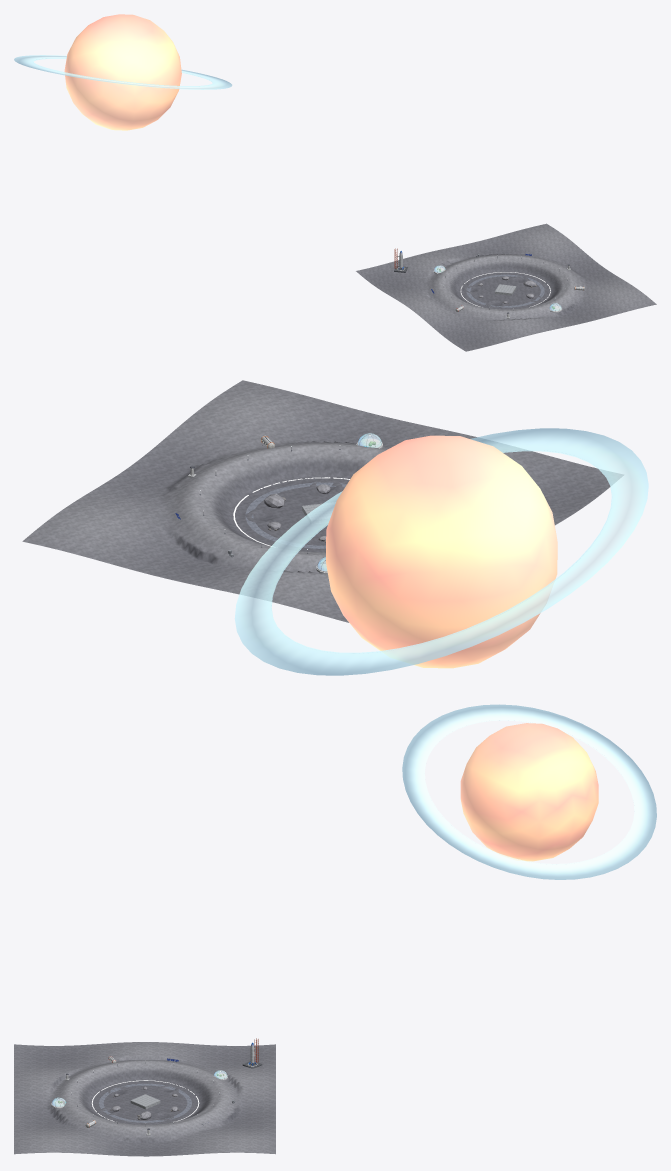
File: cratera-lunar.glb
3 renders of one model, top to bottom at view 1: azimuth 30°, elevation 25°; view 2: azimuth 150°, elevation 25°; view 3: azimuth 270°, elevation 25°, orthographic. The views are drawn at different scales.
Parts seen in each view (by area): view 1: arena_floor, arena_props; view 2: arena_props, arena_floor, arena_platforms; view 3: arena_floor, arena_props.
Boxes of the visible parts, bbox=[...] form: arena_floor: bbox=[356, 223, 656, 351]; arena_props: bbox=[14, 14, 584, 318]; arena_props: bbox=[175, 428, 648, 675]; arena_floor: bbox=[22, 380, 623, 622]; arena_platforms: bbox=[302, 502, 335, 524]; arena_floor: bbox=[14, 1042, 275, 1156]; arena_props: bbox=[51, 704, 656, 1135].
Size of the model in its own units: 481 by 235 by 552.
18 materials, 8 textured.
